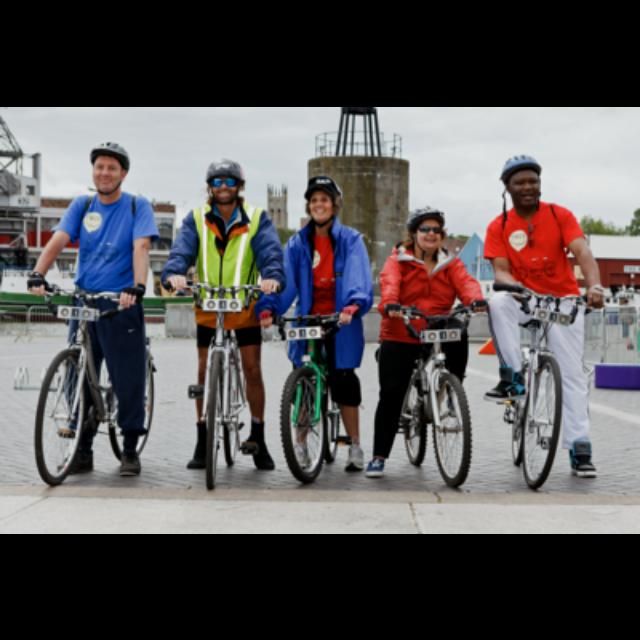With Helmet: (493, 149, 549, 203), (86, 136, 130, 192), (403, 203, 451, 254), (202, 154, 246, 202), (302, 175, 344, 225)
